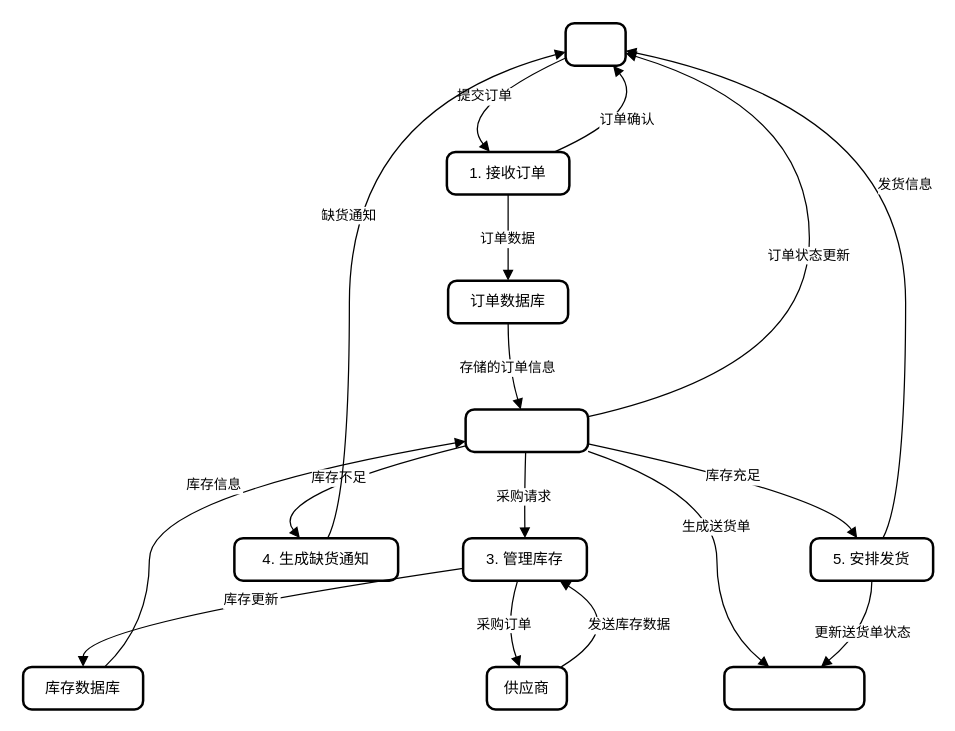
The diagram is 955 pixels wide and 731 high, and some of its shapes have lost their labels. Each missing label, with the centre of its shape:
"2. 处理订单" belongs at (526,430).
"客户" belongs at (595,43).
"送货单数据库" belongs at (793,687).
